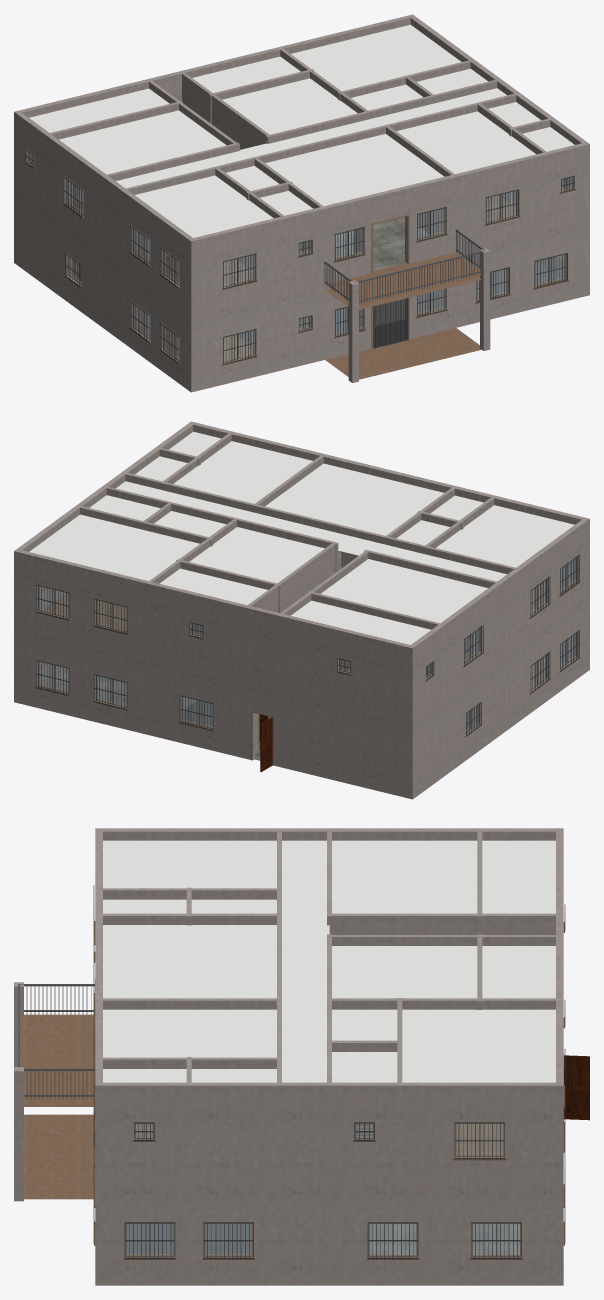
The model's file is mansion_interior.glb.
3 renders of one model, top to bottom at view 1: azimuth 30°, elevation 25°; view 2: azimuth 150°, elevation 25°; view 3: azimuth 270°, elevation 25°, orthographic. The views are drawn at different scales.
Visible parts, largest first — view 1: mansion_interior_static, ceiling_mesh, door_f0_foyer_portico_security_mesh; view 2: mansion_interior_static, ceiling_mesh, door_f0_backhall_out_mesh; view 3: mansion_interior_static, ceiling_mesh, door_f0_backhall_out_mesh.
Part boxes in pixels (x1,y1,x2,y2): mansion_interior_static: (14,14,589,392); ceiling_mesh: (29,24,574,237); door_f0_foyer_portico_security_mesh: (373,298,408,348); mansion_interior_static: (14,421,589,799); ceiling_mesh: (29,431,574,644); door_f0_backhall_out_mesh: (260,717,272,772); mansion_interior_static: (14,828,565,1285); ceiling_mesh: (103,840,555,1082); door_f0_backhall_out_mesh: (564,1055,589,1120).
Bounding box in the file's own units: 18.33 × 6.6 × 17.25.
19 materials, 13 textured.
